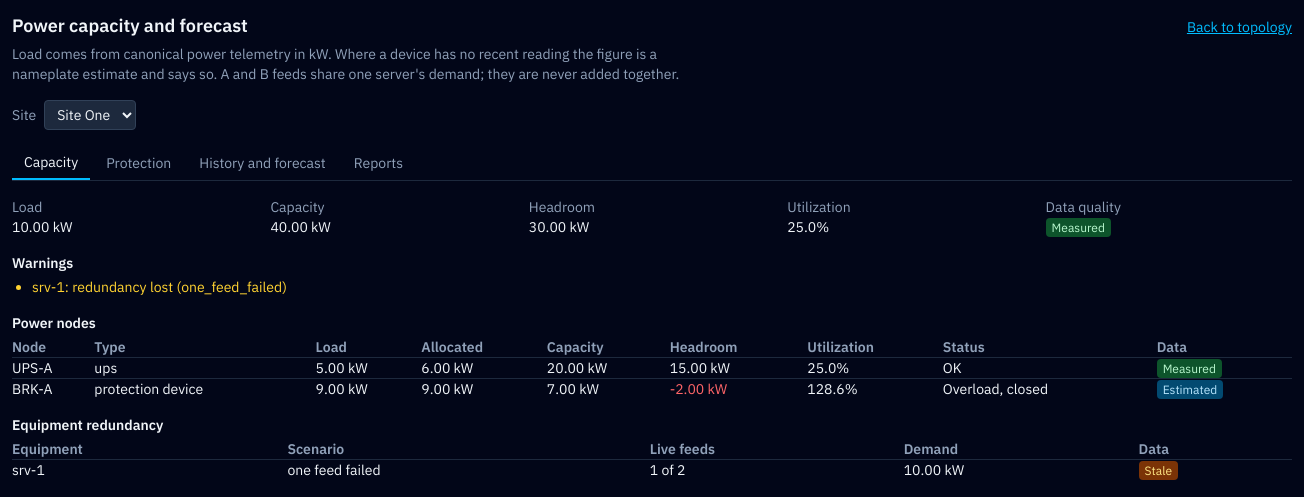
Test: PowerAnalyticsPage › hides report generation from read-only users and shows a download error
What coordinates should you click on to do the following:
click the tab "Reports"
I would click on:
 (378, 163)
Its box is [342,146,415,180].
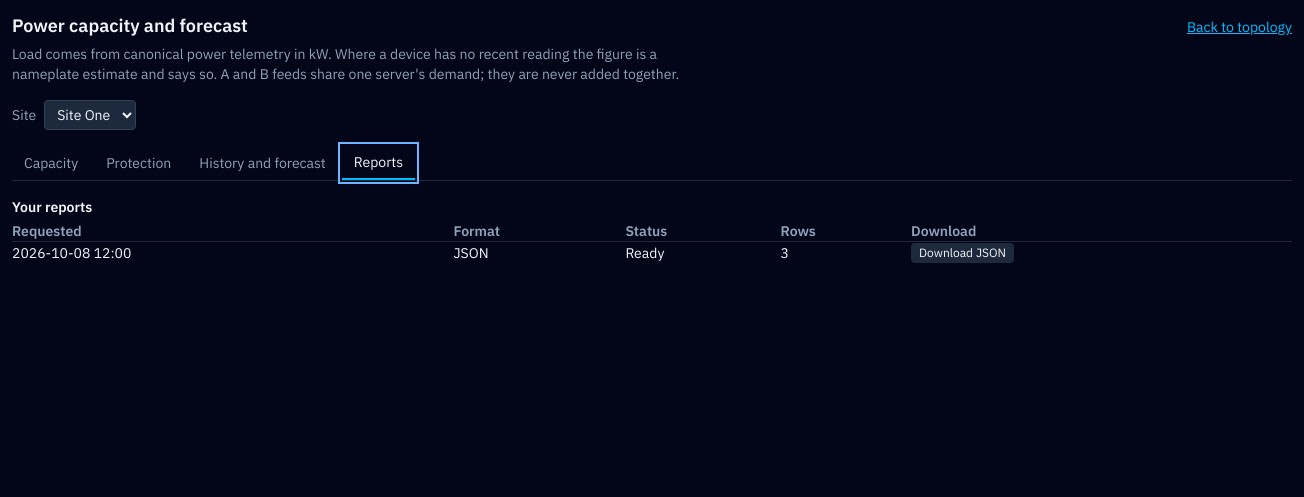
What coordinates should you click on to do the following:
click the button "Download JSON"
I would click on:
 (962, 253)
Its box is [911,243,1014,263].
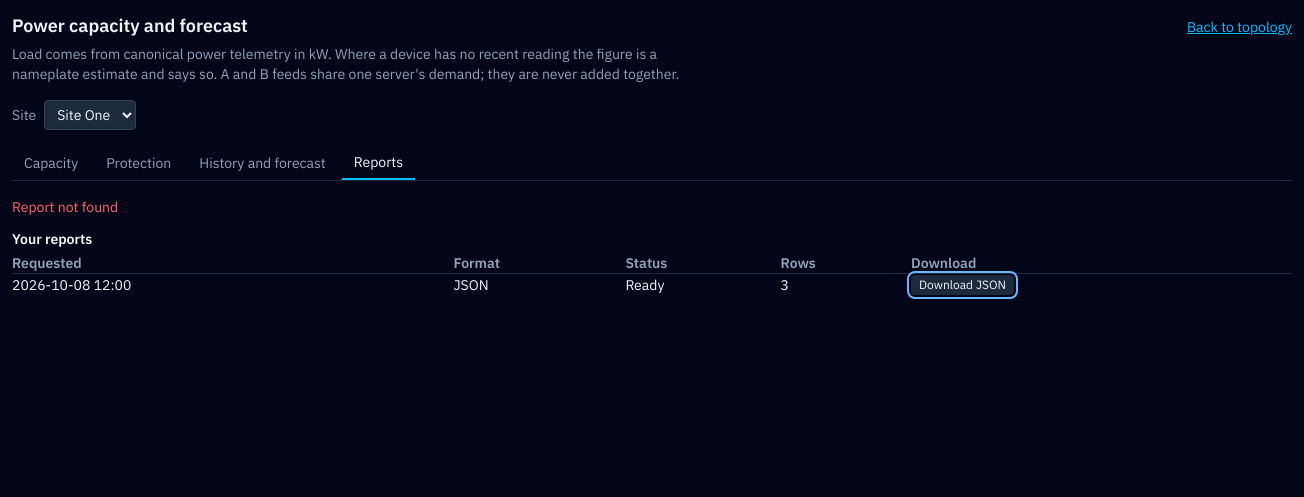
Check: the message reads "Report not found", box [12,198,118,216]
